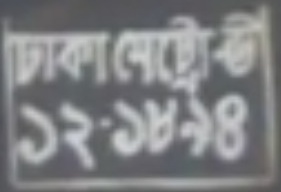DHAKA METRO: (4, 15, 215, 100), (5, 27, 111, 91)
U: (219, 5, 267, 89)
number_121894: (16, 93, 262, 174)
